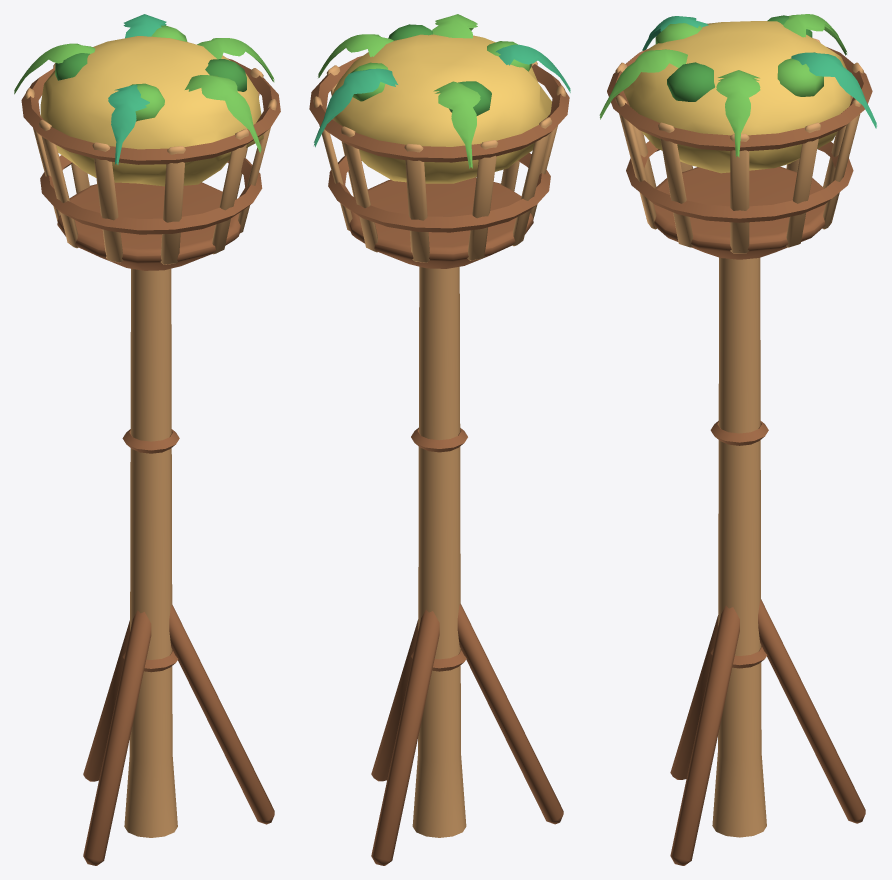
The model's file is prop_tall_feeder.glb.
3 renders of one model, left to right at view 1: azimuth 30°, elevation 25°; view 2: azimuth 150°, elevation 25°; view 3: azimuth 270°, elevation 25°, orthographic.
Parts seen in each view (by area): view 1: prop_tall_feeder, food; view 2: prop_tall_feeder, food; view 3: prop_tall_feeder, food.
Boxes of the visible parts, x1,y1,x2,y2 form: prop_tall_feeder: [21, 58, 280, 865]; food: [14, 14, 274, 186]; prop_tall_feeder: [309, 56, 569, 865]; food: [314, 14, 570, 183]; prop_tall_feeder: [607, 38, 872, 865]; food: [599, 14, 876, 173].
Size of the model in its own units: 1.01 by 3.19 by 1.02.
